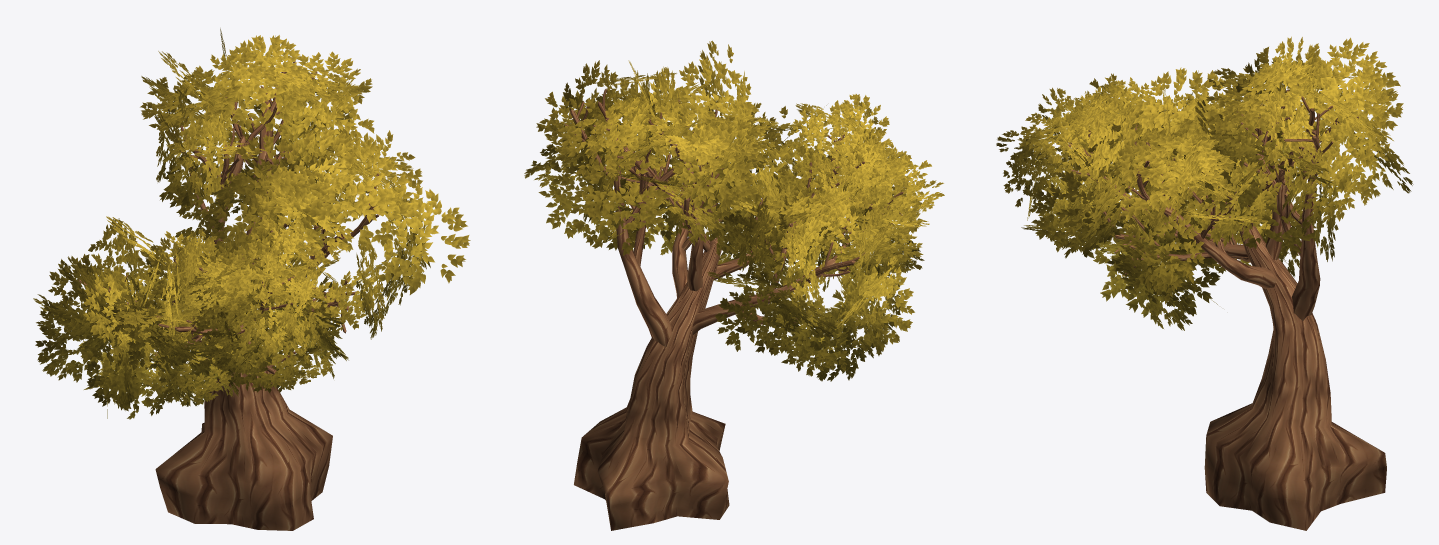
The model's file is ct_birch_2.gltf.
3 views of the same model, side by side, from view 1: azimuth 30°, elevation 25°; view 2: azimuth 150°, elevation 25°; view 3: azimuth 270°, elevation 25° (orthographic). The views are drawn at different scales.
Visible parts, largest first — view 1: ct_birch_2_leaves_LOD0, ct_birch_2_trunk_LOD0; view 2: ct_birch_2_leaves_LOD0, ct_birch_2_trunk_LOD0; view 3: ct_birch_2_leaves_LOD0, ct_birch_2_trunk_LOD0.
Part boxes in pixels (box(x1,y1,x2,y2)): ct_birch_2_leaves_LOD0: box(33, 28, 470, 419); ct_birch_2_trunk_LOD0: box(78, 57, 379, 530); ct_birch_2_leaves_LOD0: box(524, 40, 944, 381); ct_birch_2_trunk_LOD0: box(564, 88, 903, 530); ct_birch_2_leaves_LOD0: box(996, 36, 1413, 330); ct_birch_2_trunk_LOD0: box(1068, 84, 1386, 530).
Size of what is drawn, in the model's own units: 7.77 by 9.08 by 7.83.
2 materials, 2 textured.
